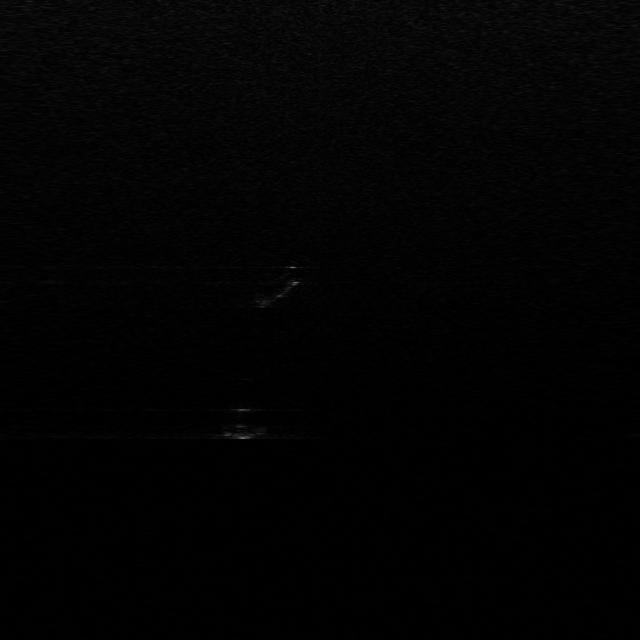ball: (216, 404, 270, 438)
tyre: (254, 266, 304, 307)
